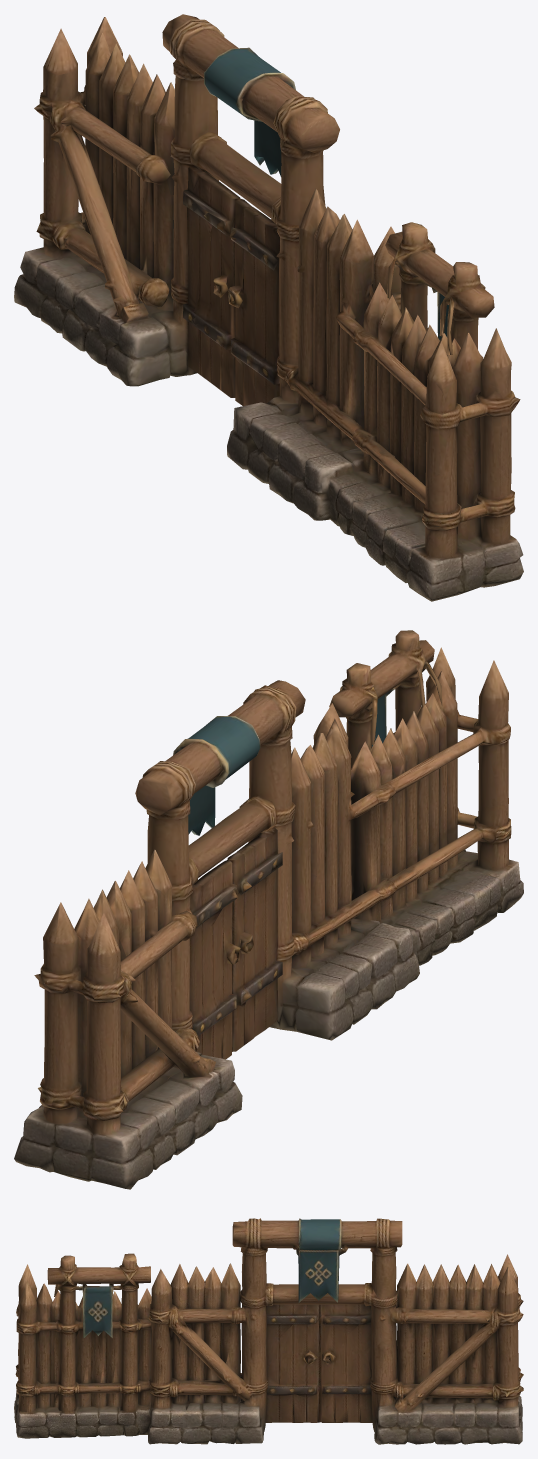
Rendered from sur-sv1.glb.
3 views of the same model, one above another, from view 1: azimuth 30°, elevation 25°; view 2: azimuth 150°, elevation 25°; view 3: azimuth 270°, elevation 25° (orthographic). The views are drawn at different scales.
Parts seen in each view (by area): view 1: tripo_node_4d58a0fd-baa6-4d27-9573-4f27c3e90658; view 2: tripo_node_4d58a0fd-baa6-4d27-9573-4f27c3e90658; view 3: tripo_node_4d58a0fd-baa6-4d27-9573-4f27c3e90658.
Part boxes in pixels (x1,y1,x2,y2): tripo_node_4d58a0fd-baa6-4d27-9573-4f27c3e90658: (14,14,523,601); tripo_node_4d58a0fd-baa6-4d27-9573-4f27c3e90658: (14,630,523,1189); tripo_node_4d58a0fd-baa6-4d27-9573-4f27c3e90658: (14,1218,523,1444).
Size of the model in its own units: 0.1675 by 0.4557 by 1.
Materials: 1 (1 with a texture image).
